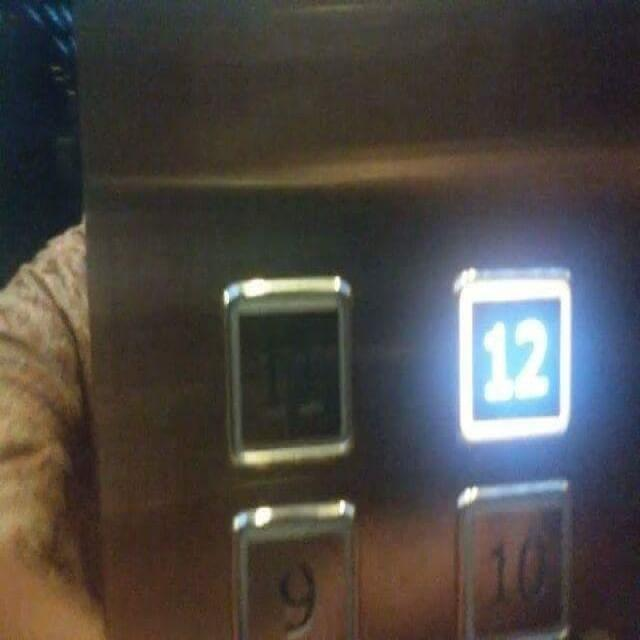10: (450, 478, 569, 638)
12: (451, 266, 574, 446)
9: (226, 497, 363, 639)
blur: (222, 272, 356, 468)
